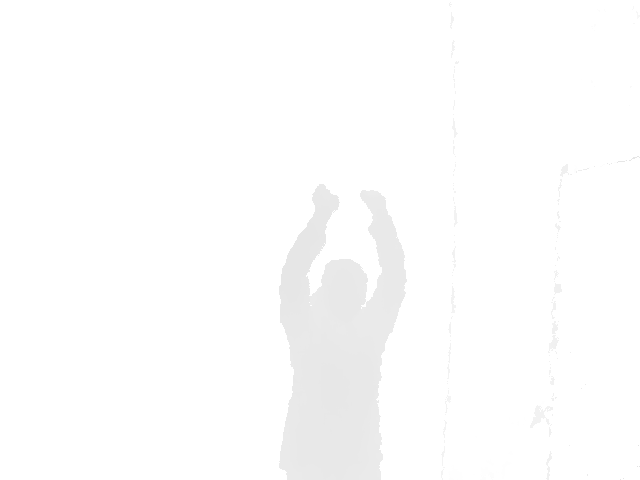hand: (309, 184, 340, 214), (358, 188, 388, 213)
head: (319, 258, 368, 323)
person: (278, 184, 408, 480)
